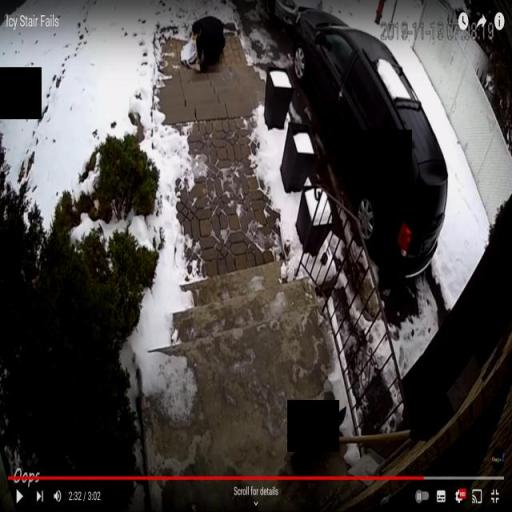Fall: (188, 14, 227, 74)
